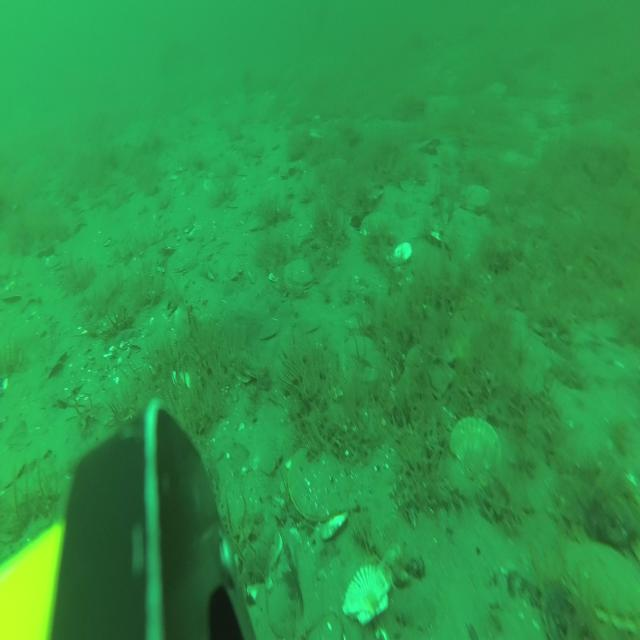scallop: (562, 531, 640, 640), (286, 442, 352, 525), (450, 414, 503, 481), (341, 559, 392, 626), (404, 343, 456, 403), (283, 255, 319, 297), (345, 172, 385, 204), (167, 238, 201, 275), (459, 180, 494, 215), (484, 78, 508, 106)
